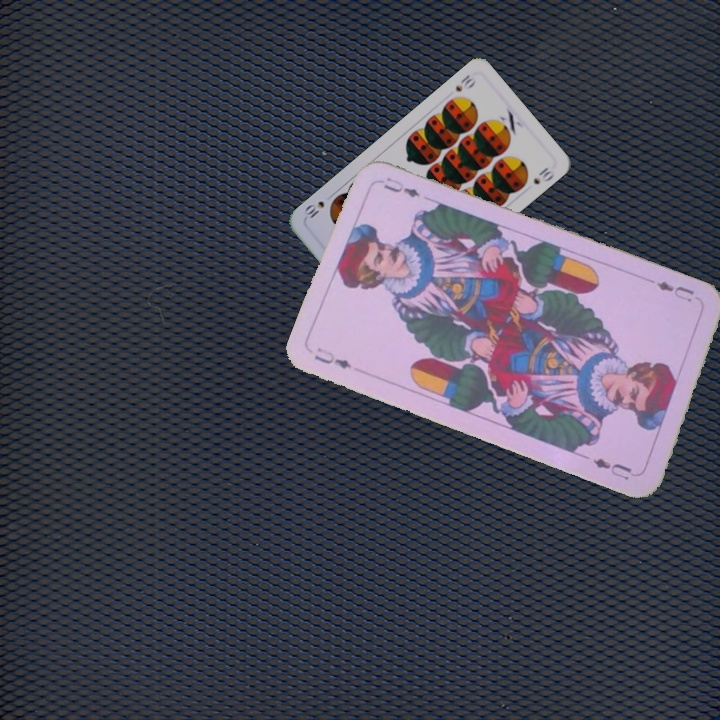EU: (652, 276, 697, 305), (310, 343, 354, 372)
S10: (451, 70, 478, 94)
